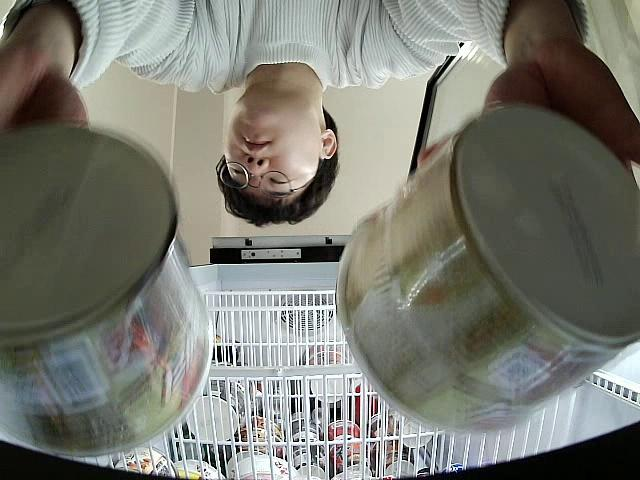03_chapagetti_L: (333, 106, 640, 431), (0, 128, 221, 455)
